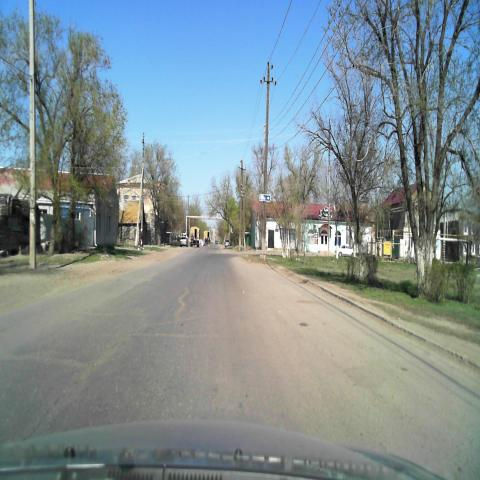6_15_2: (259, 193, 271, 202)
